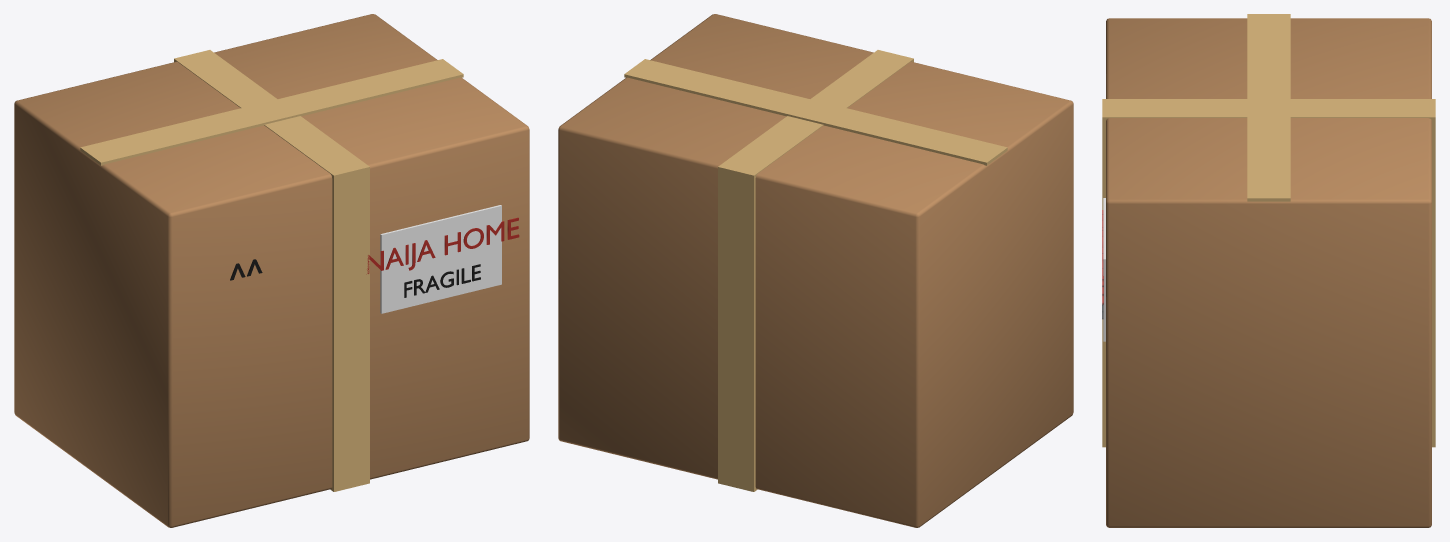
The model's file is fur_box.glb.
3 views of the same model, side by side, from view 1: azimuth 30°, elevation 25°; view 2: azimuth 150°, elevation 25°; view 3: azimuth 270°, elevation 25° (orthographic). The views are drawn at different scales.
Visible parts, largest first — view 1: FUR_box; view 2: FUR_box; view 3: FUR_box.
Boxes of the visible parts, box(x1,y1,x2,y2) form: FUR_box: box(14, 14, 529, 527); FUR_box: box(558, 14, 1073, 527); FUR_box: box(1102, 14, 1435, 527).
Bounding box in the file's own units: 1.2 × 1.01 × 0.92.
Materials: 1 (1 with a texture image).
